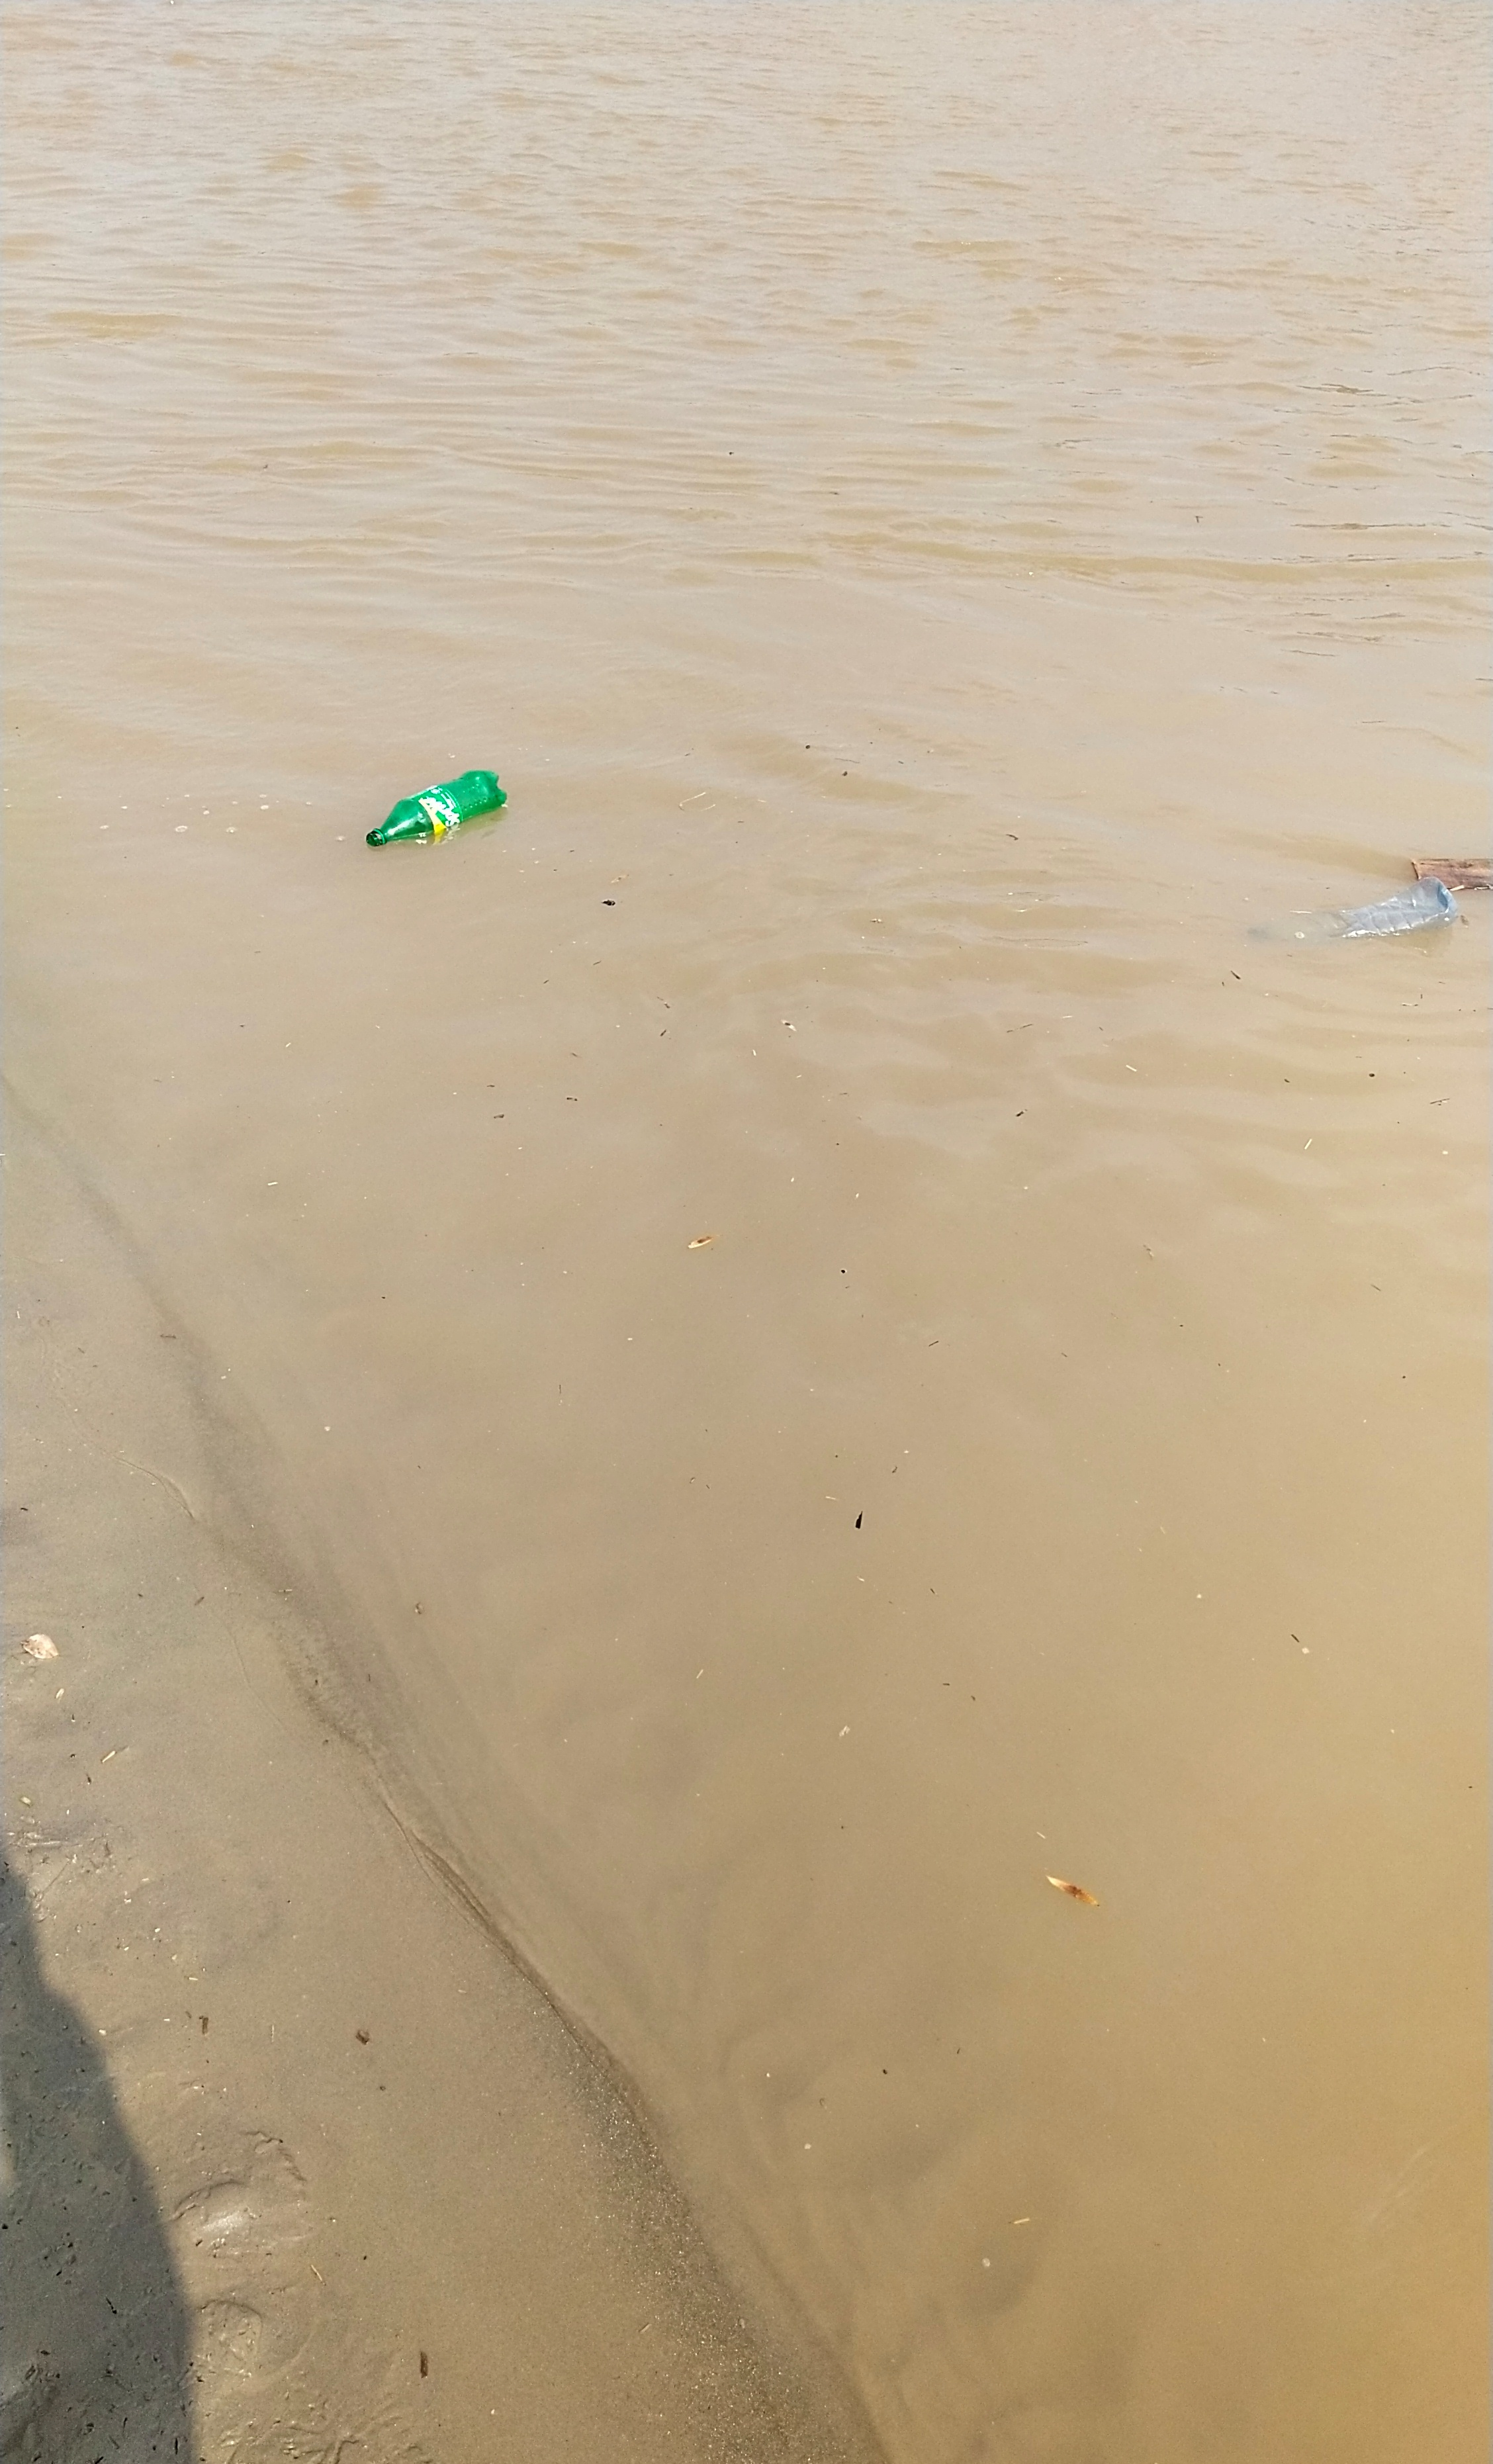Plastic Bottle: (366, 769, 507, 847), (1310, 876, 1456, 940)
